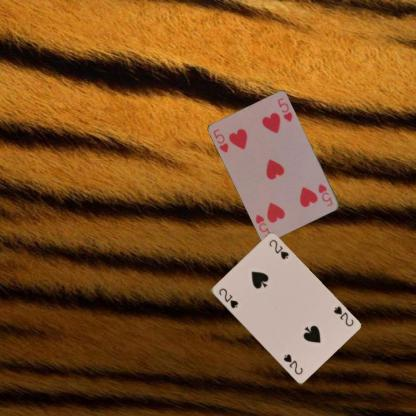2s: (331, 303, 355, 328), (216, 285, 239, 310)
5h: (211, 126, 230, 154), (315, 181, 334, 208)
